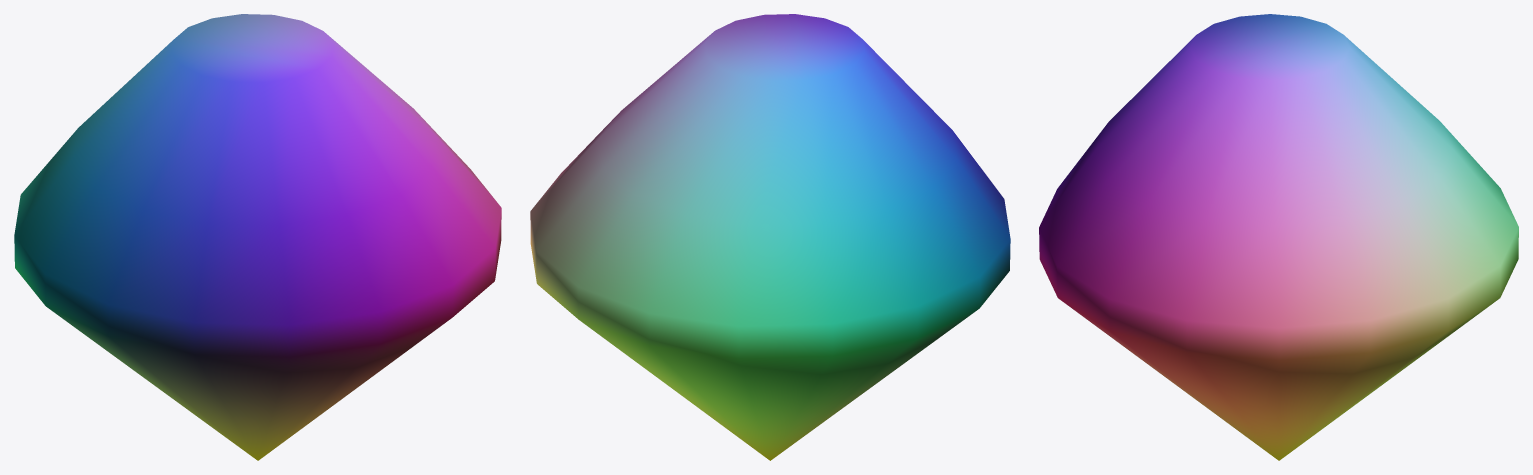
File: SM_Pickup_Gem_Diamond_5.fbx
The picture shows the model from 3 angles, left to right: view 1: azimuth 30°, elevation 25°; view 2: azimuth 150°, elevation 25°; view 3: azimuth 270°, elevation 25°; orthographic projection. The views are drawn at different scales.
Visible parts, largest first — view 1: SM_Pickup_Gem_Diamond_5; view 2: SM_Pickup_Gem_Diamond_5; view 3: SM_Pickup_Gem_Diamond_5.
Boxes of the visible parts, <box> form: SM_Pickup_Gem_Diamond_5: <box>14,14,501,460</box>; SM_Pickup_Gem_Diamond_5: <box>530,14,1010,460</box>; SM_Pickup_Gem_Diamond_5: <box>1039,14,1518,460</box>.
Bounding box in the file's own units: 0.3207 × 0.3015 × 0.3207.
